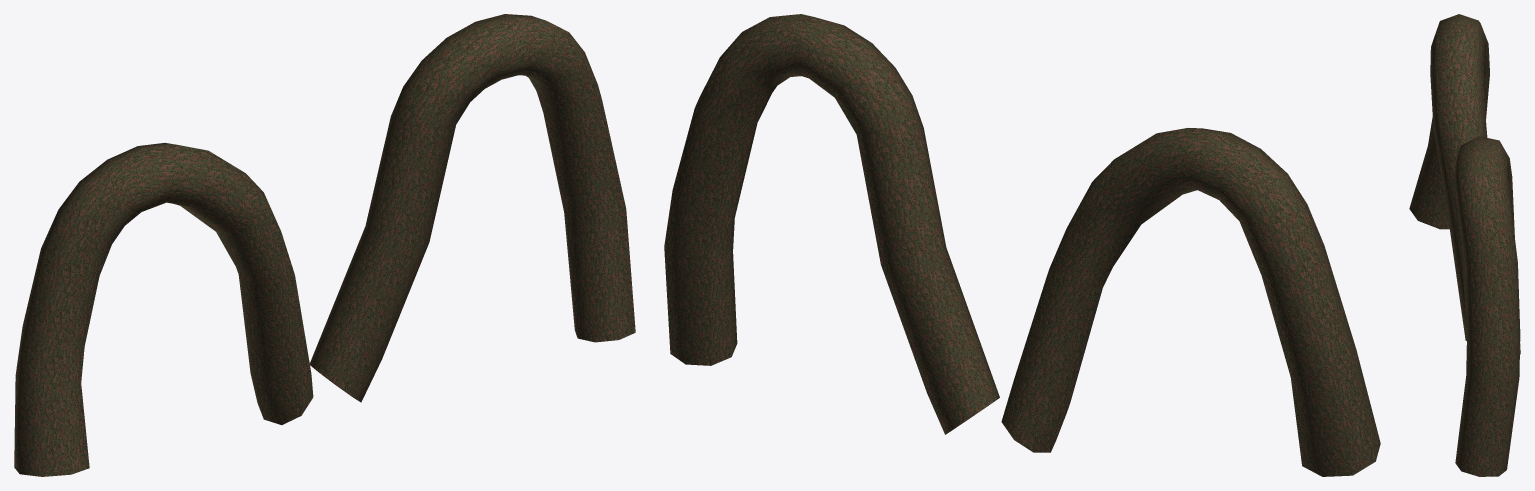
File: SwampFence1.fbx
3 renders of one model, left to right at view 1: azimuth 30°, elevation 25°; view 2: azimuth 150°, elevation 25°; view 3: azimuth 270°, elevation 25°, orthographic. The views are drawn at different scales.
Visible parts, largest first — view 1: SwampFence1; view 2: SwampFence1; view 3: SwampFence1.
Boxes of the visible parts, x1,y1,x2,y2 form: SwampFence1: [14, 14, 635, 476]; SwampFence1: [664, 14, 1380, 476]; SwampFence1: [1409, 14, 1520, 476].
Bounding box in the file's own units: 2393 × 1251 × 437.
Materials: 1 (1 with a texture image).
